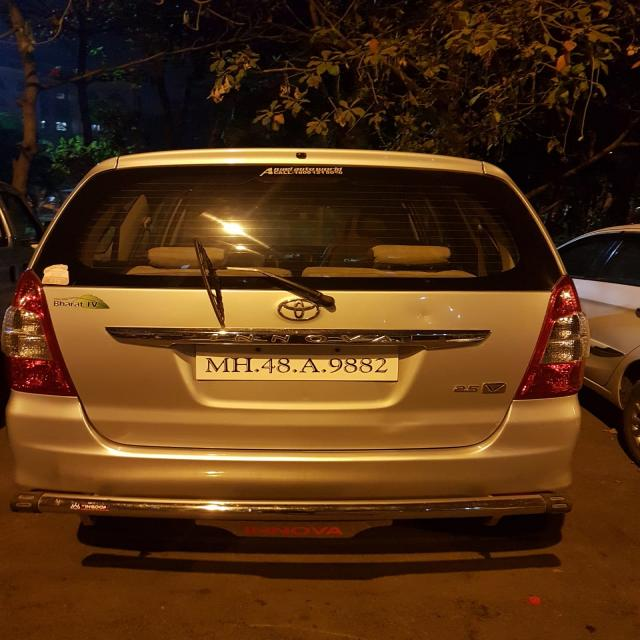Number-Plate: (192, 349, 402, 382)
